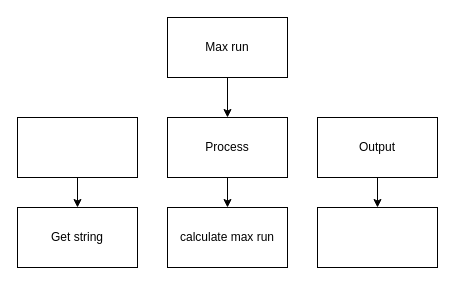
Some shapes in this 455 by 285 pixel diagram are drawn without their labels. Each missing label, with the centre of its shape:
"Input" goes at point 77,147.
"return max string" goes at point 377,237.
